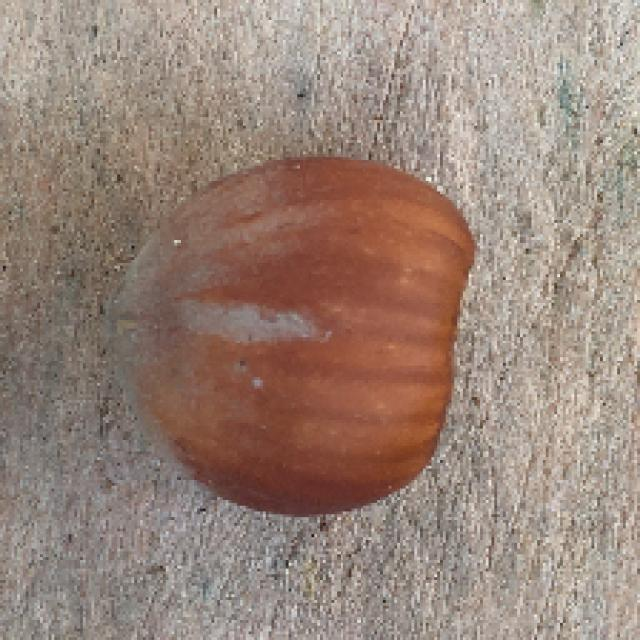qualityHazelnut: (117, 150, 476, 515)
